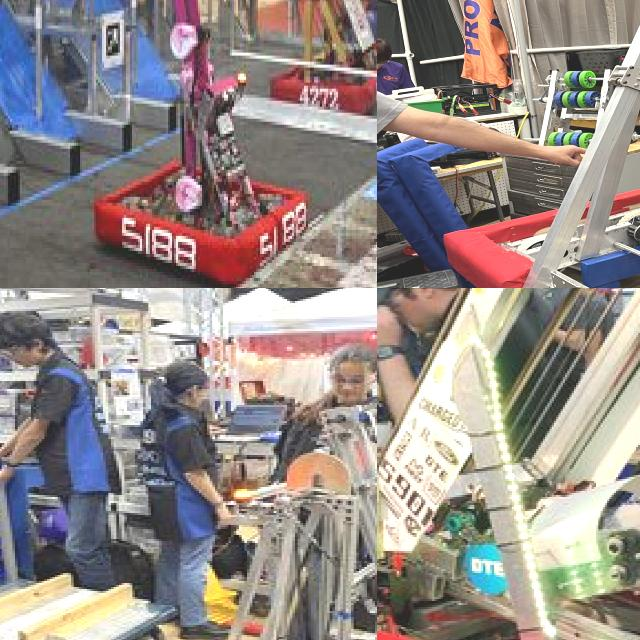FRC-Robots: (377, 288, 640, 640), (19, 0, 312, 288), (0, 470, 377, 640), (428, 0, 640, 288), (227, 0, 377, 129)
